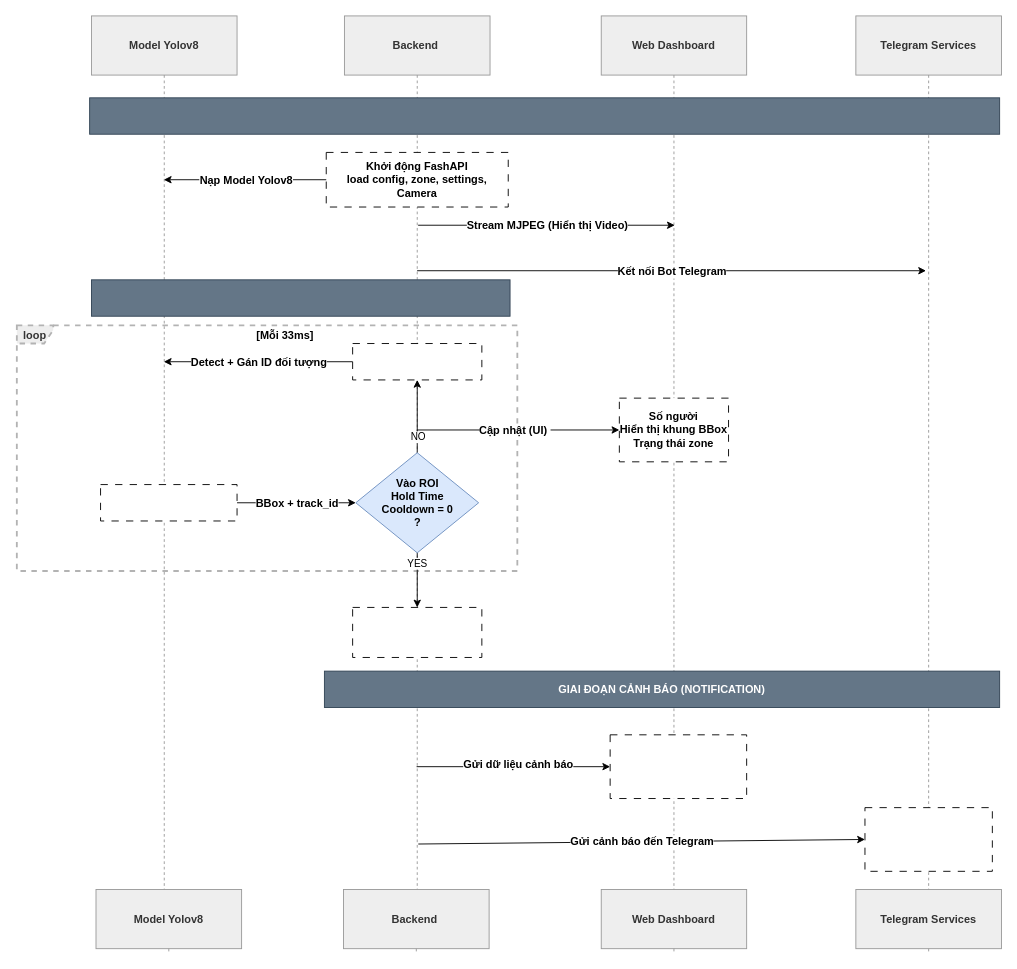
Image size: 1017x969. Some labels were removed from this diagram. Here are the shapes that lost their labels. From the top down, the centre of each, then its label:
At pixel 544 115: "GIAI ĐONẠ KHỞI TẠO HỆ THỐNG".
At pixel 300 297: "GIAI ĐOẠN GIÁM SÁT VÀ PHÂN TÍCH".
At pixel 417 361: "Đọc frame từ camera, và thực hiện tiền xử lý".
At pixel 168 502: "Phát hiện đối tượng (Human Detection)".
At pixel 417 632: "Chụp ảnh Snapshot Save img: /alerts".
At pixel 678 766: "Hiển thị cảnh báo Update History list".
At pixel 928 839: "Nhận Ảnh Info Xâm Nhập".
